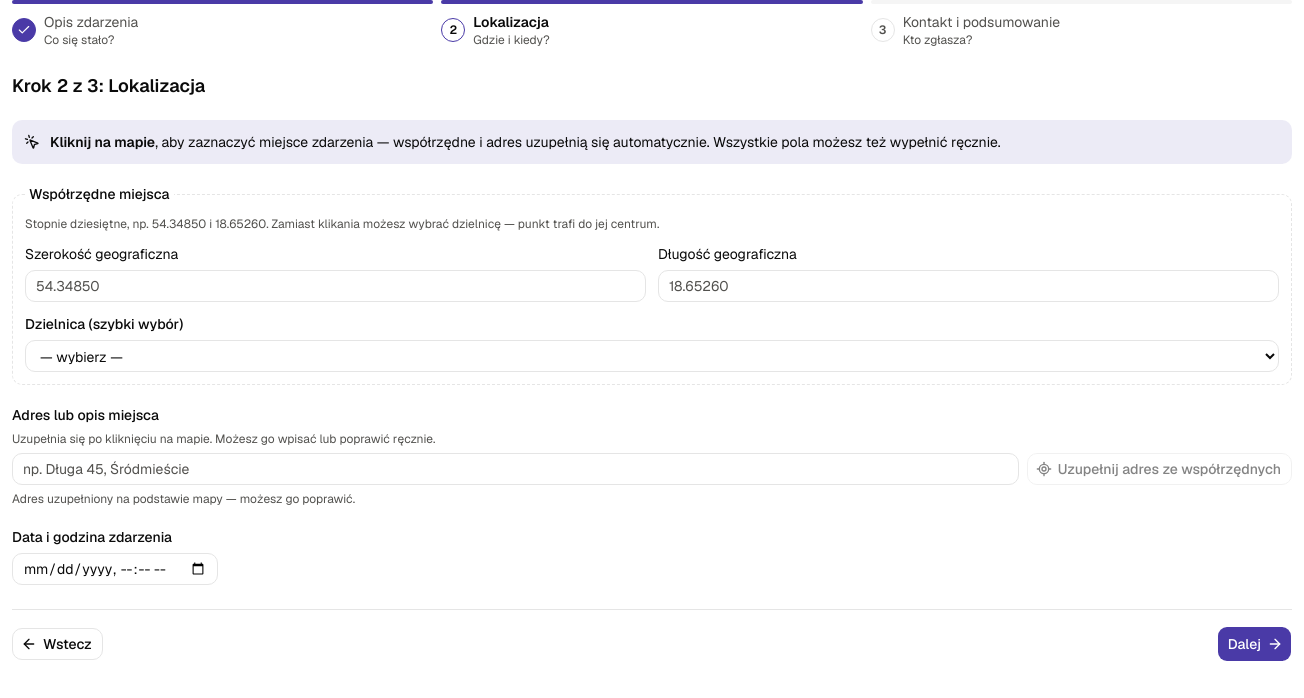
Test case: IncidentForm › goes back without losing entered data
The image size is (1304, 698).
What coordinates should you click on to do the following:
click the button "Wstecz"
I would click on:
 (57, 644)
Its box is 12,628 -> 103,660.
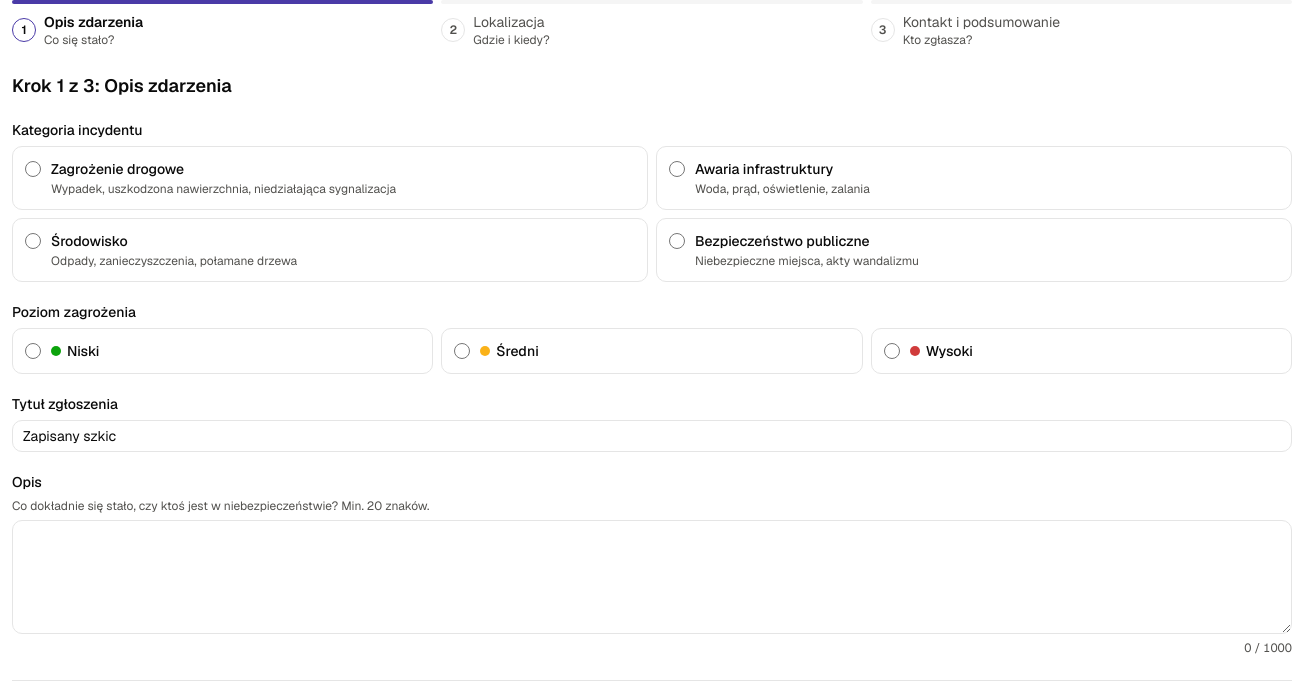
Result: the field labelled "Tytuł zgłoszenia" holds "Zapisany szkic" at 12,420 -> 1292,452
